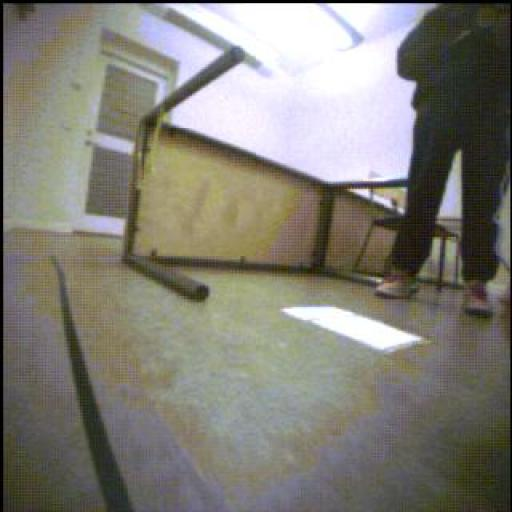Pad: (284, 307, 428, 353)
